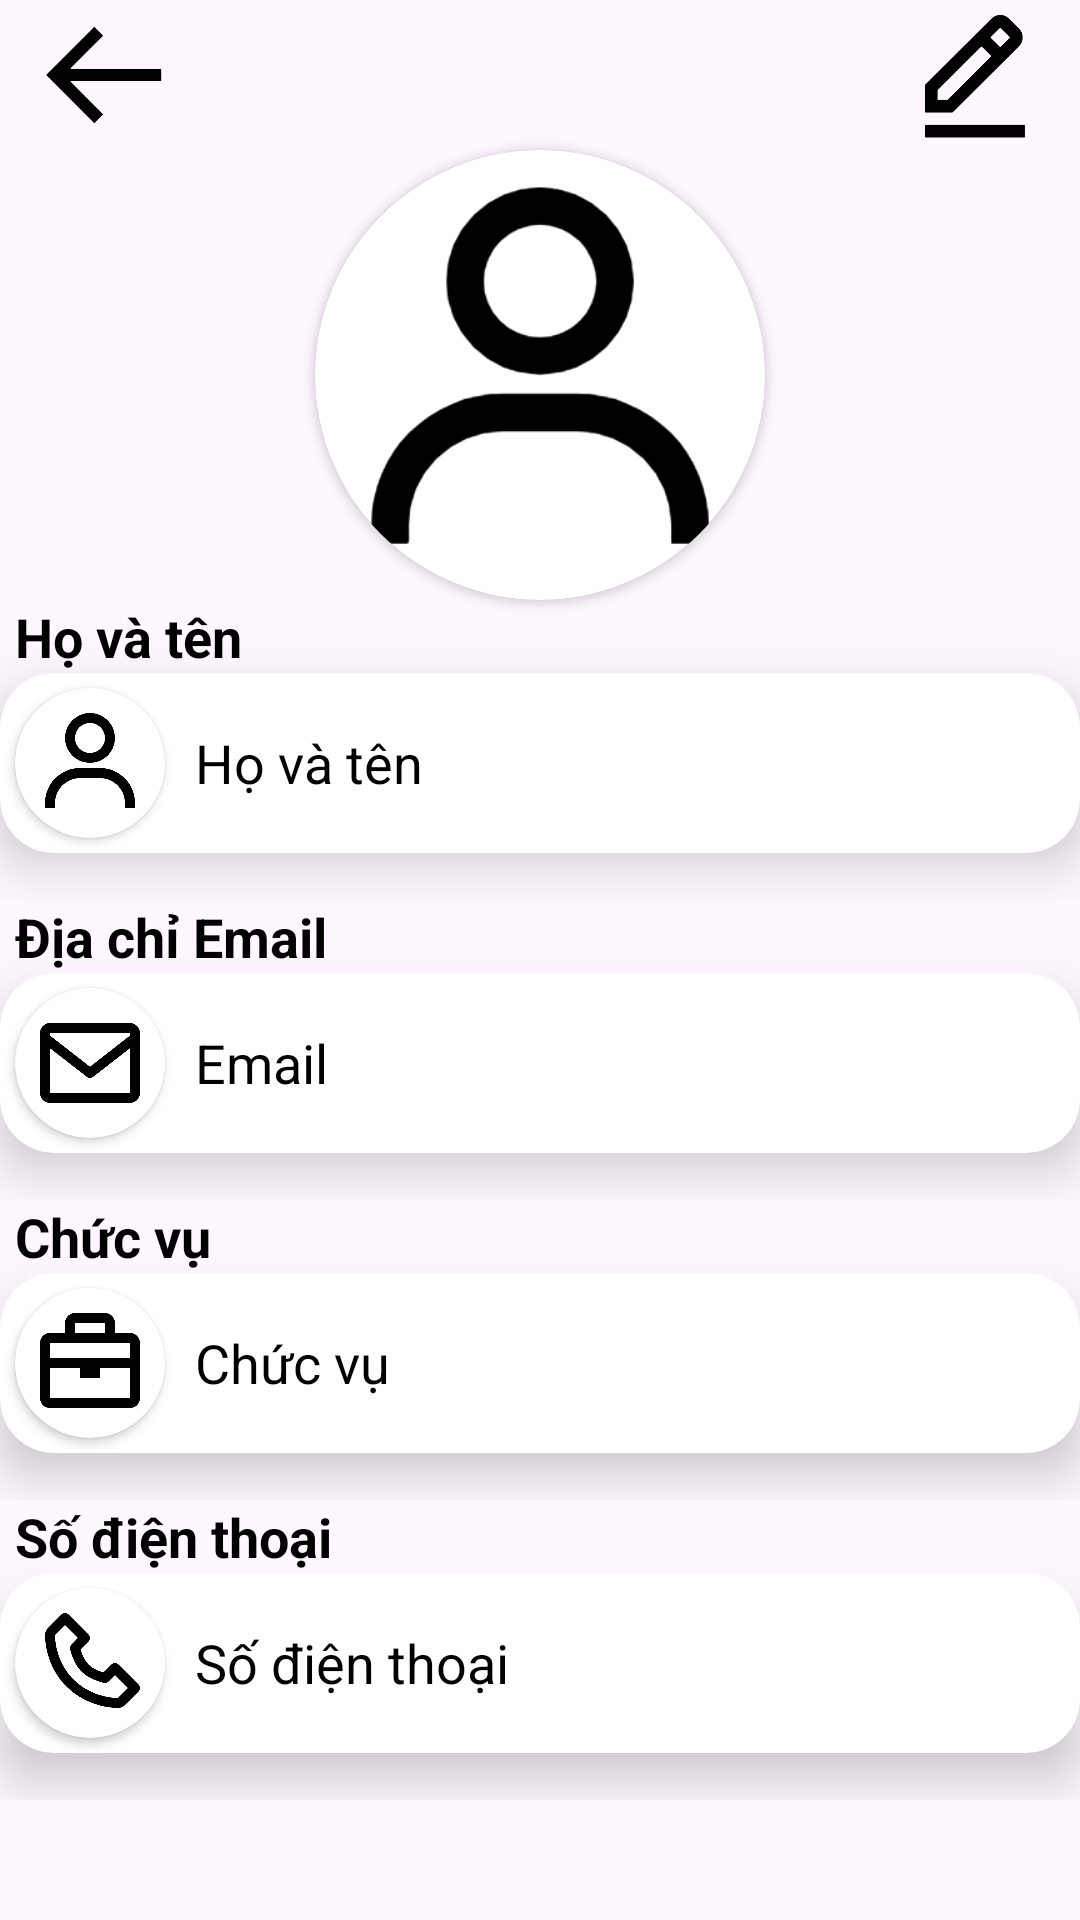

Named icons in this screenshot (1080×1920) and their centers, point (x, y):
back: point (104, 75)
briefcase: point (90, 1360)
edit: point (975, 76)
phone: point (92, 1660)
